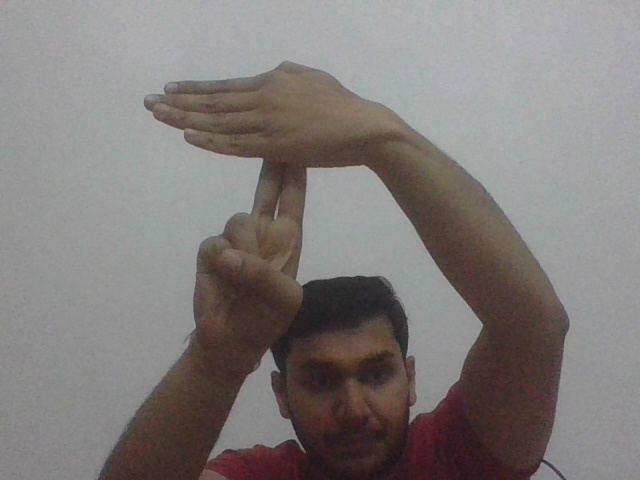N: (142, 57, 366, 215)
